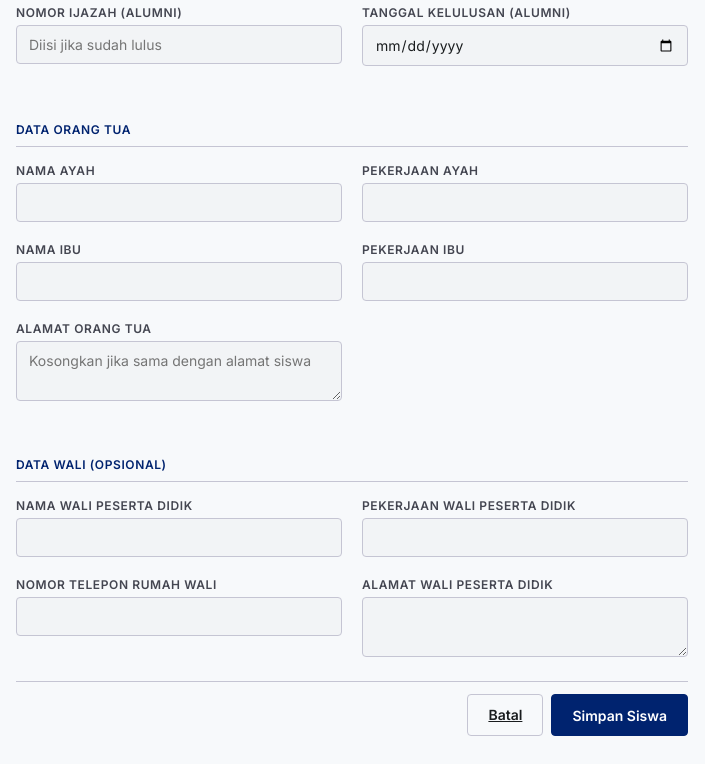
Test: Add Student Page › clears validation errors when field values are corrected
(page scrolled)
Click the button "Simpan Siswa".
click(620, 715)  # box [551,694,688,736]
(page scrolled)
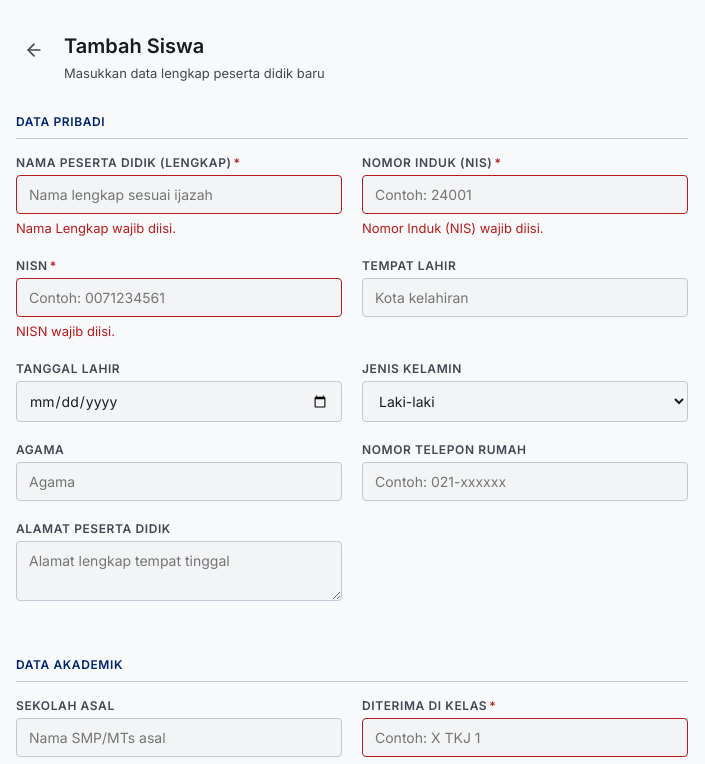
expect the text "Nomor Induk (NIS) wajib diisi." is shown: met, box [362,220,544,236]
expect the text "Nama Lengkap wajib diisi." is shown: met, box [16,220,176,236]
Note: Type in NIS field to clear its error
Type "12345" into the field with placeholder "Contoh: 24001".
click(525, 194); type("12345")  # box [362,175,688,214]
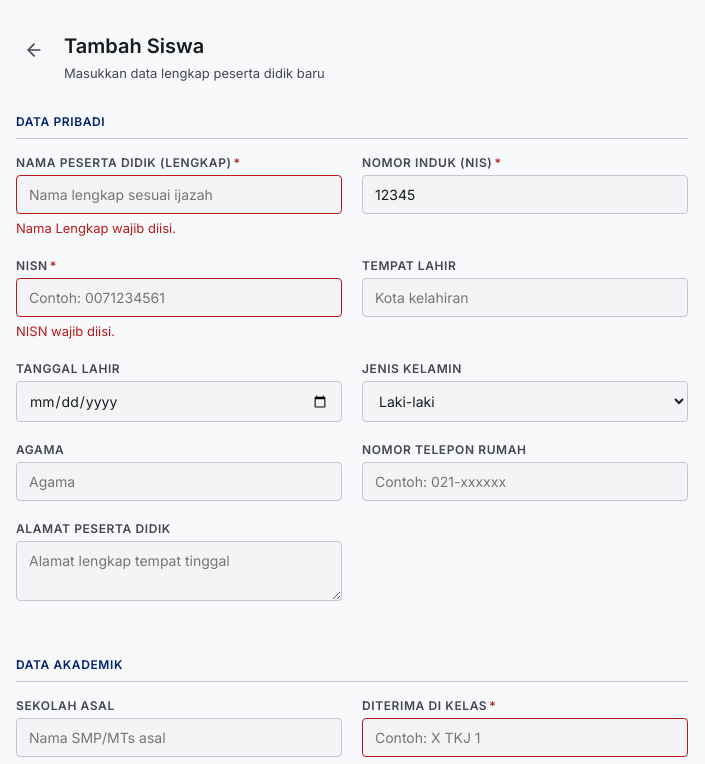
expect the text "Nama Lengkap wajib diisi." is shown: met, box [16,220,176,236]
expect the text "Nomor Induk (NIS) wajib diisi." is gone: met
Note: Type in Nama field to clear its error
Type "John Doe" into the field with placeholder "Nama lengkap sesuai ijazah".
click(179, 194); type("John Doe")  # box [16,175,342,214]
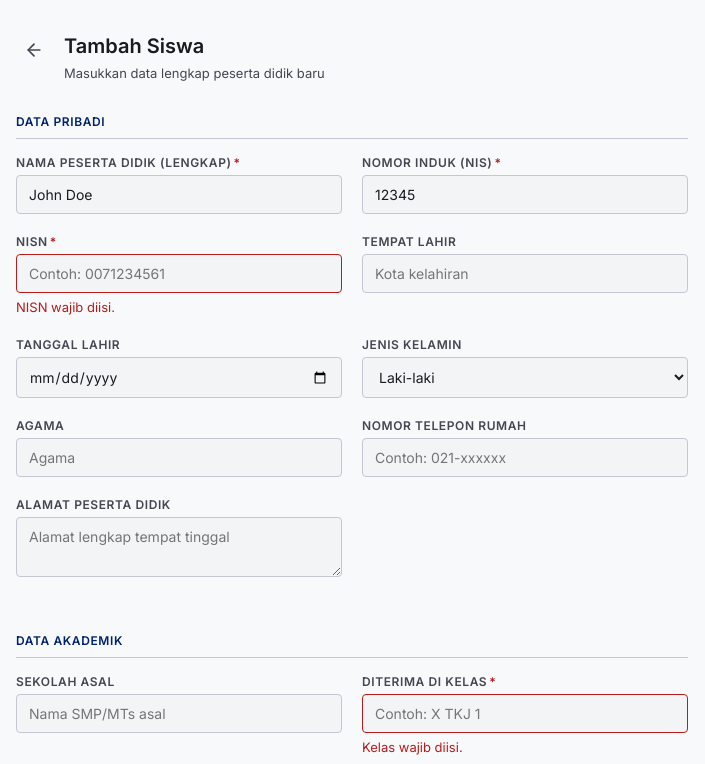
expect the text "Nama Lengkap wajib diisi." is gone: met
